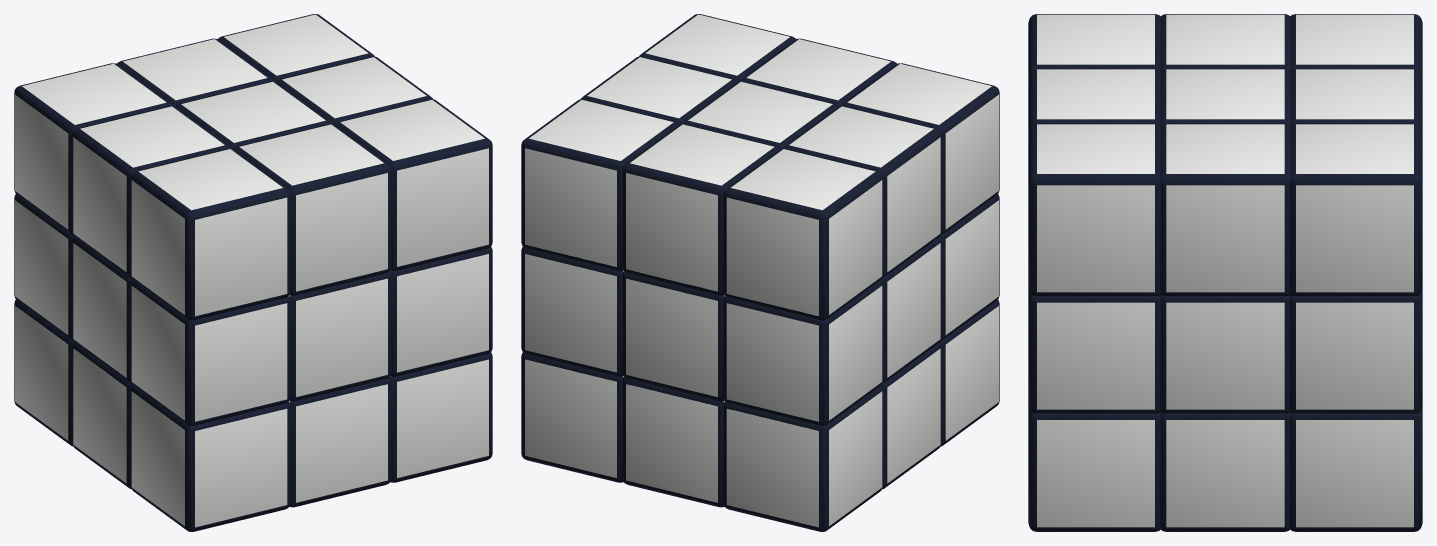
3 renders of one model, left to right at view 1: azimuth 30°, elevation 25°; view 2: azimuth 150°, elevation 25°; view 3: azimuth 270°, elevation 25°, orthographic. The views are drawn at different scales.
Visible parts, largest first — view 1: rubiks_cube; view 2: rubiks_cube; view 3: rubiks_cube.
Part boxes in pixels (x1,y1,x2,y2): rubiks_cube: (14,14,492,531); rubiks_cube: (521,14,999,531); rubiks_cube: (1028,14,1422,531).
Bounding box in the file's own units: 100 × 100 × 100.
